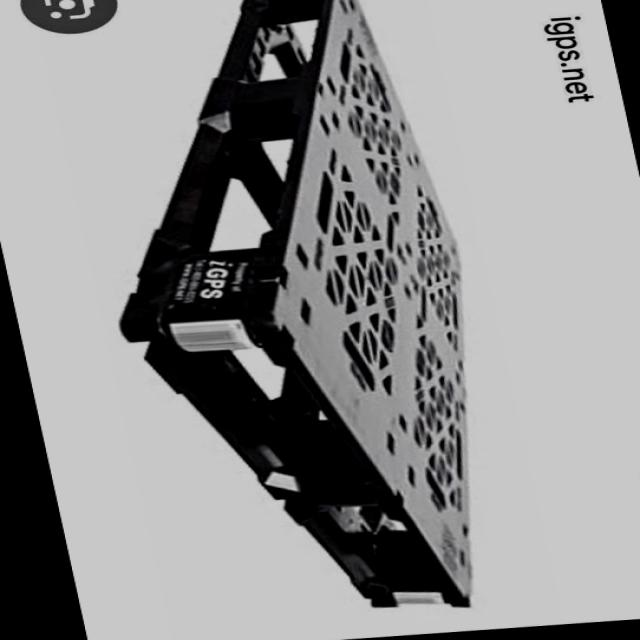igps: (89, 0, 508, 614)
